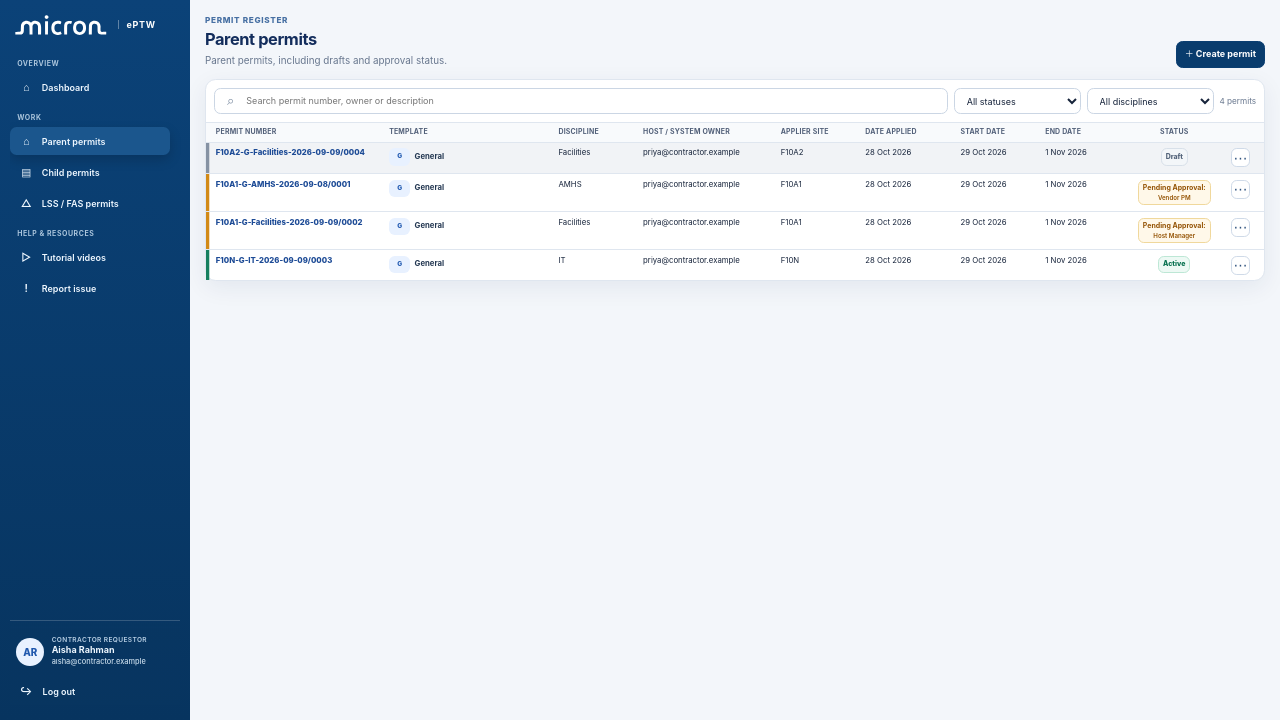
Test: application shell › shows only Edit, Duplicate, and Delete actions for an owned draft permit
Click the heading named "Actions for F10A2-G-Facilities-2026-09-09/0004": (1241, 158) [1231, 148, 1250, 167]
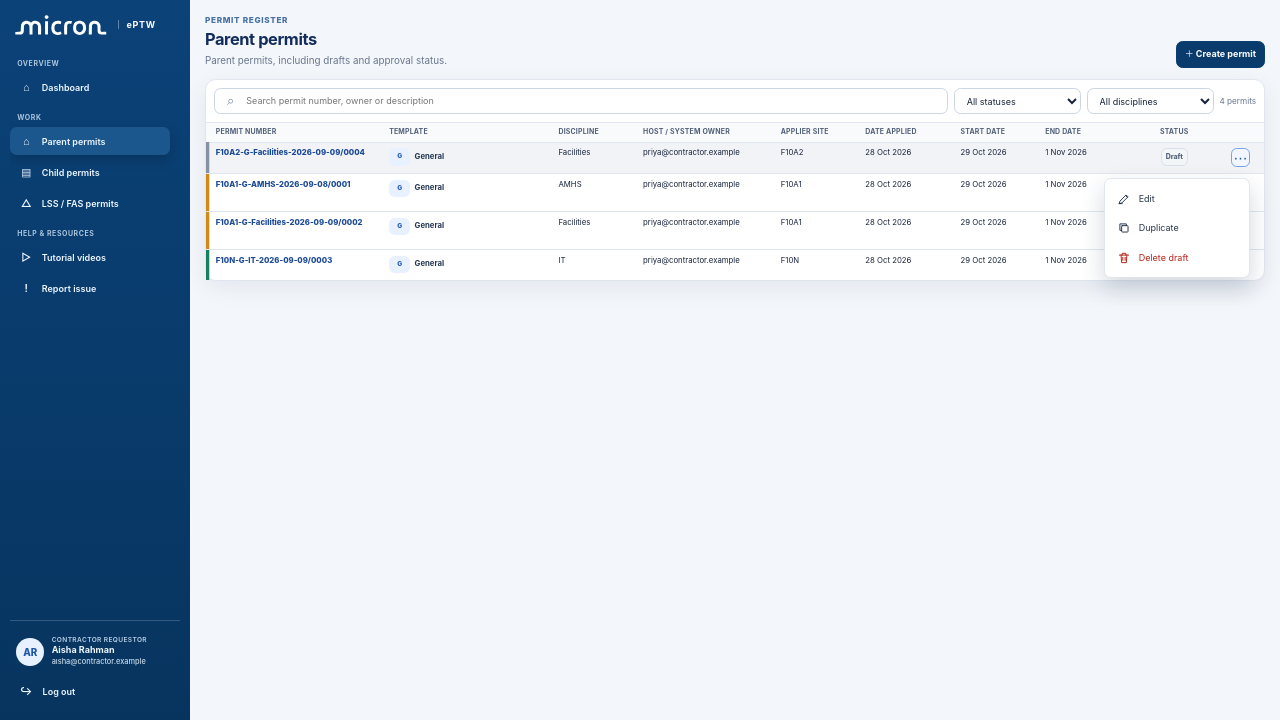
Result: the link "Edit" is shown at [1116, 192, 1155, 206]
Result: the button "Duplicate" is shown at [1110, 213, 1244, 243]
Result: the button "Delete draft" is shown at [1110, 243, 1244, 272]
